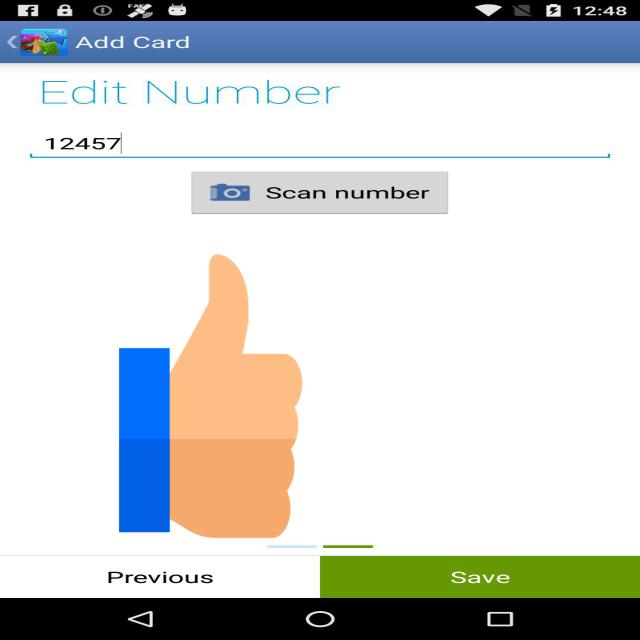privacy zuckering: (119, 247, 302, 545)
